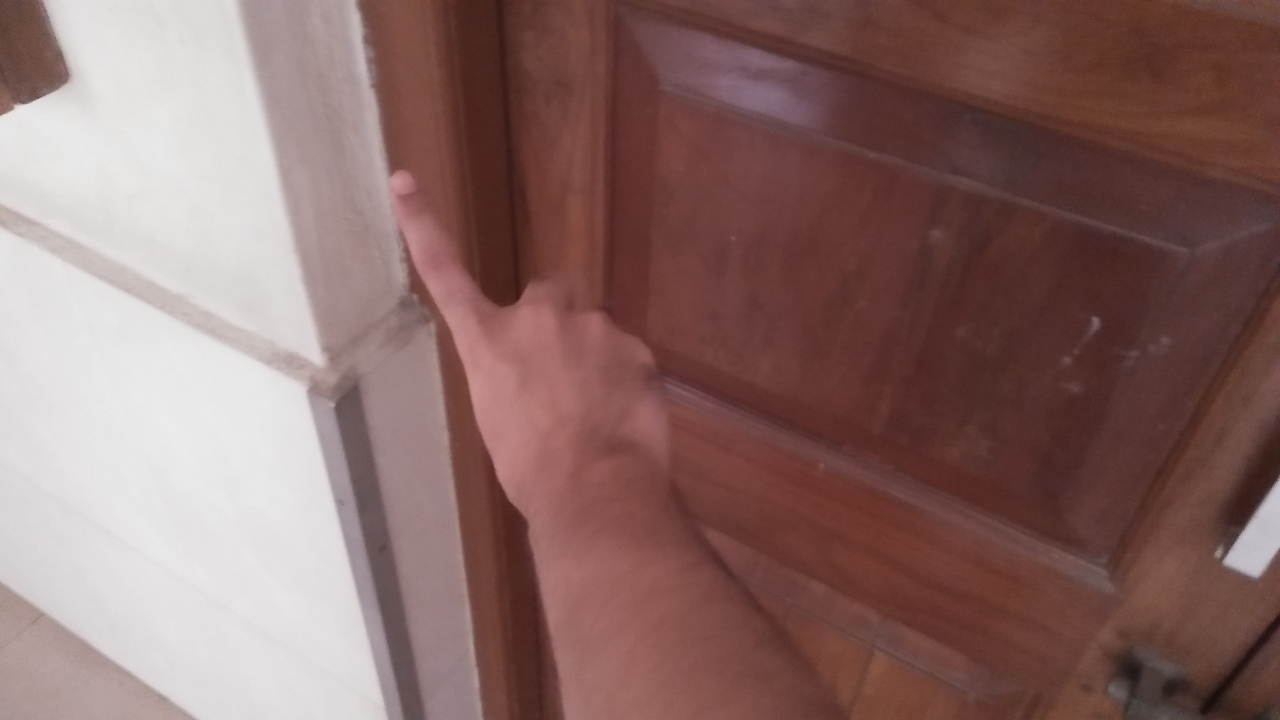fingertip: (373, 166, 428, 199)
